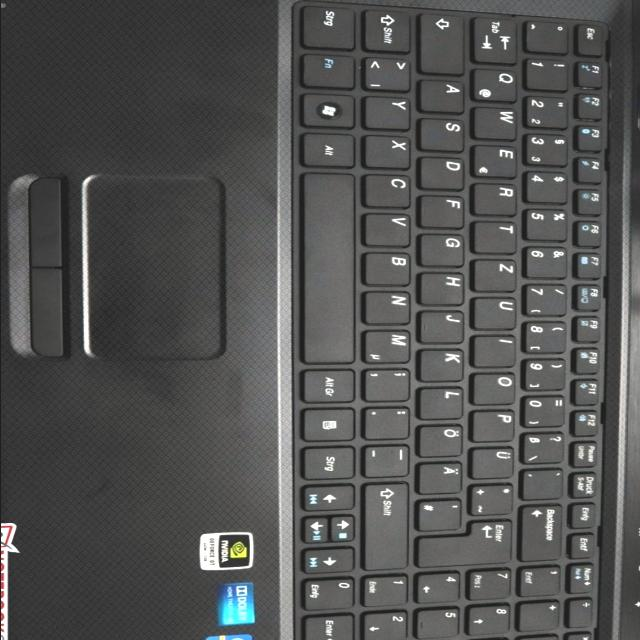0: (523, 393, 569, 427)
1: (525, 56, 571, 90)
2: (526, 94, 571, 128)
3: (526, 131, 572, 165)
4: (526, 169, 572, 202)
5: (526, 206, 571, 240)
6: (525, 244, 571, 277)
7: (525, 283, 571, 315)
8: (524, 319, 570, 351)
9: (524, 356, 570, 389)
a: (420, 78, 468, 112)
accent: (522, 467, 567, 499)
ae: (418, 459, 466, 493)
alt-left: (303, 131, 359, 167)
altgr-right: (303, 367, 359, 402)
b: (365, 249, 415, 285)
c: (363, 172, 415, 206)
caret: (526, 19, 571, 52)
comma: (364, 366, 414, 401)
d: (420, 155, 468, 189)
del: (522, 502, 567, 559)
e: (473, 142, 520, 176)
enter: (419, 517, 517, 566)
f: (421, 193, 468, 227)
g: (420, 232, 468, 266)
h: (420, 270, 468, 304)
hash: (419, 497, 466, 530)
i: (473, 333, 519, 366)
j: (420, 308, 468, 342)
k: (420, 347, 468, 381)
keyboard: (285, 0, 622, 640)
l: (420, 385, 468, 418)
less: (363, 55, 415, 90)
m: (364, 328, 414, 362)
minus: (365, 442, 414, 476)
n: (364, 289, 414, 323)
o: (473, 370, 519, 404)
oe: (419, 422, 467, 456)
p: (472, 407, 518, 441)
plus: (471, 481, 517, 514)
point: (365, 405, 414, 439)
q: (473, 67, 520, 101)
r: (473, 181, 521, 215)
s: (420, 116, 468, 150)
shift-left: (364, 7, 416, 51)
shift-lock: (420, 11, 469, 73)
shift-right: (364, 480, 414, 568)
space: (301, 171, 359, 361)
ss: (523, 430, 568, 463)
strg-left: (302, 1, 360, 48)
strg-right: (303, 444, 359, 479)
t: (473, 219, 520, 253)
tab: (473, 14, 522, 62)
u: (473, 295, 520, 329)
ue: (470, 445, 517, 478)
v: (364, 212, 414, 246)
w: (473, 105, 520, 139)
x: (364, 133, 414, 167)
y: (364, 95, 414, 129)
z: (473, 257, 521, 291)
